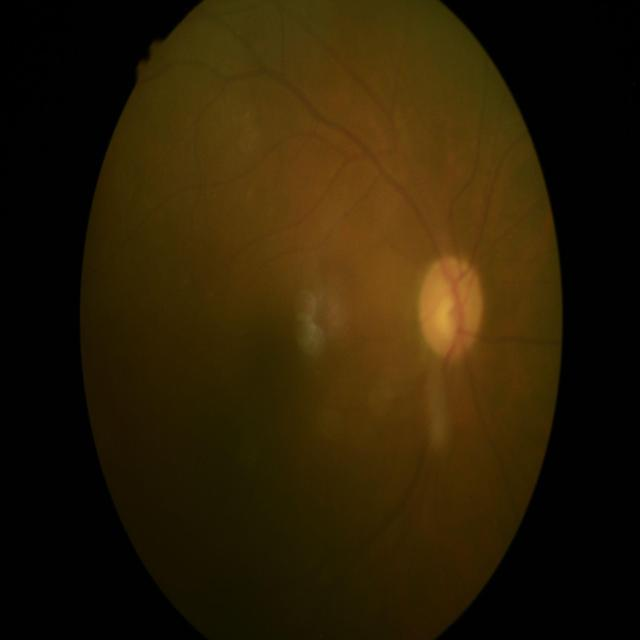cup: (428, 278, 470, 343)
disk: (418, 254, 484, 362)
